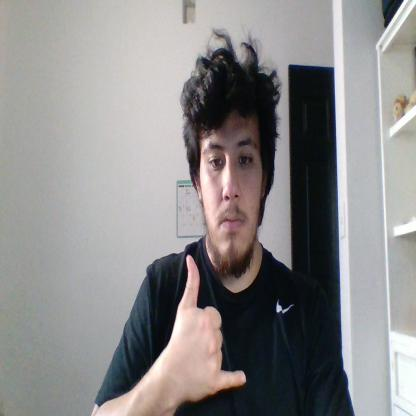Y: (171, 254, 246, 400)
